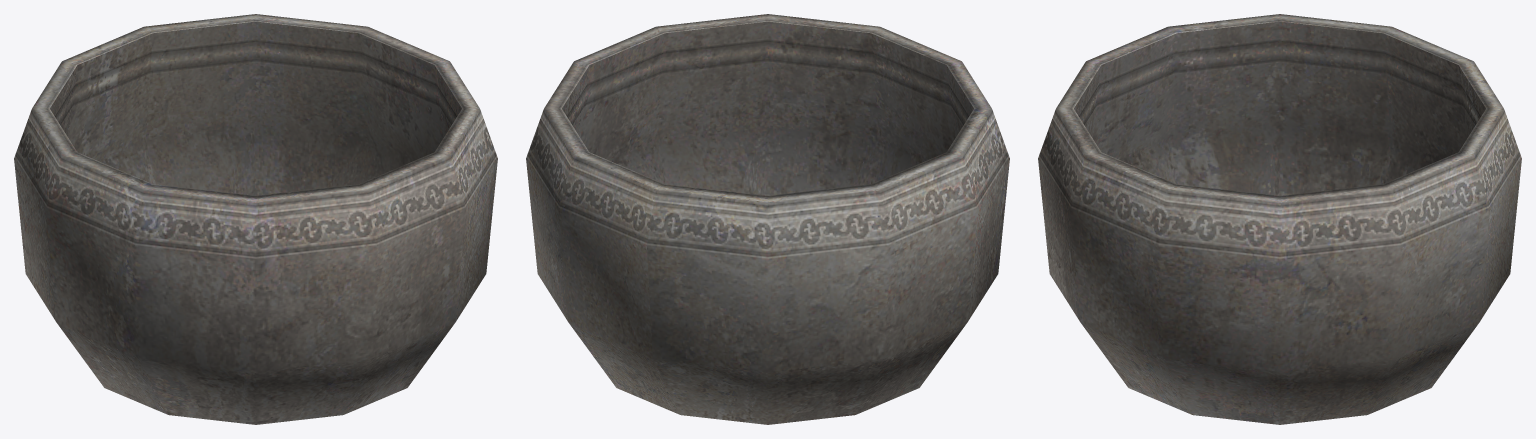
Rendered from pot1.fbx.
3 renders of one model, left to right at view 1: azimuth 30°, elevation 25°; view 2: azimuth 150°, elevation 25°; view 3: azimuth 270°, elevation 25°, orthographic.
Visible parts, largest first — view 1: pCylinder27; view 2: pCylinder27; view 3: pCylinder27.
Boxes of the visible parts, bbox=[...] form: pCylinder27: bbox=[14, 14, 497, 424]; pCylinder27: bbox=[526, 14, 1009, 424]; pCylinder27: bbox=[1038, 14, 1521, 424].
Bounding box in the file's own units: 0.3555 × 0.1964 × 0.3555.
